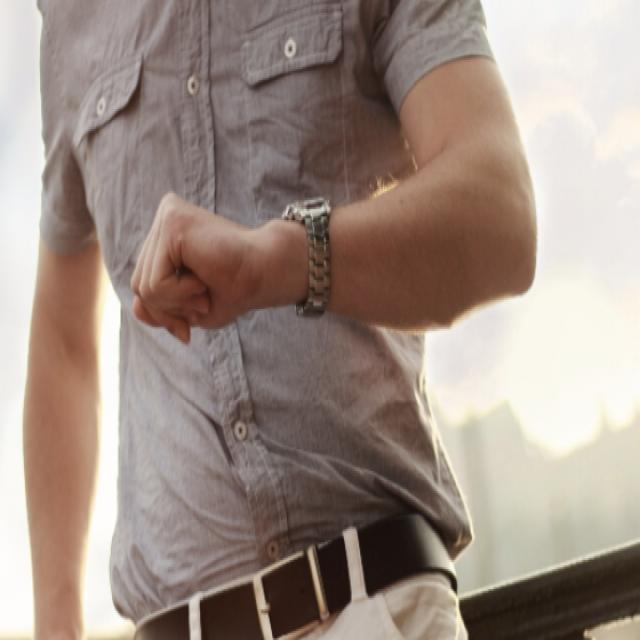Watch: (285, 189, 335, 324)
